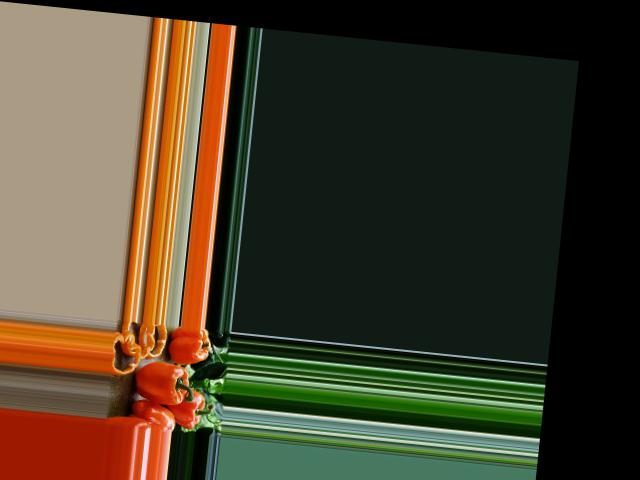bell_pepper: (126, 398, 178, 431)
